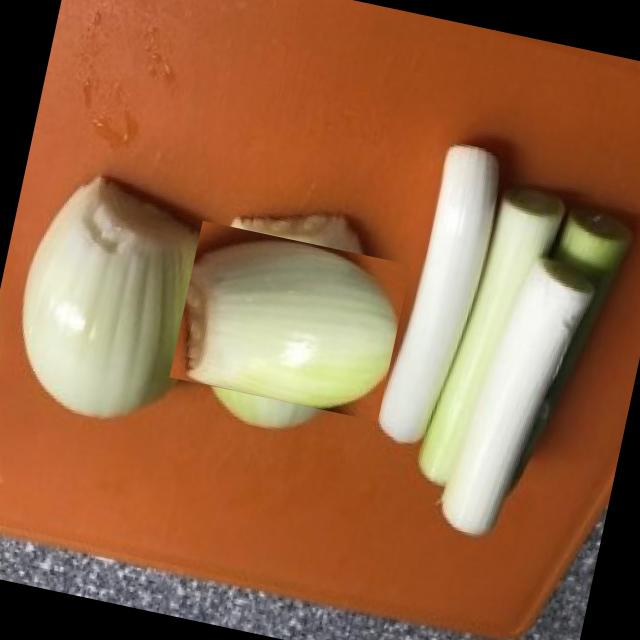Onion: (0, 182, 225, 434), (178, 210, 400, 431)
